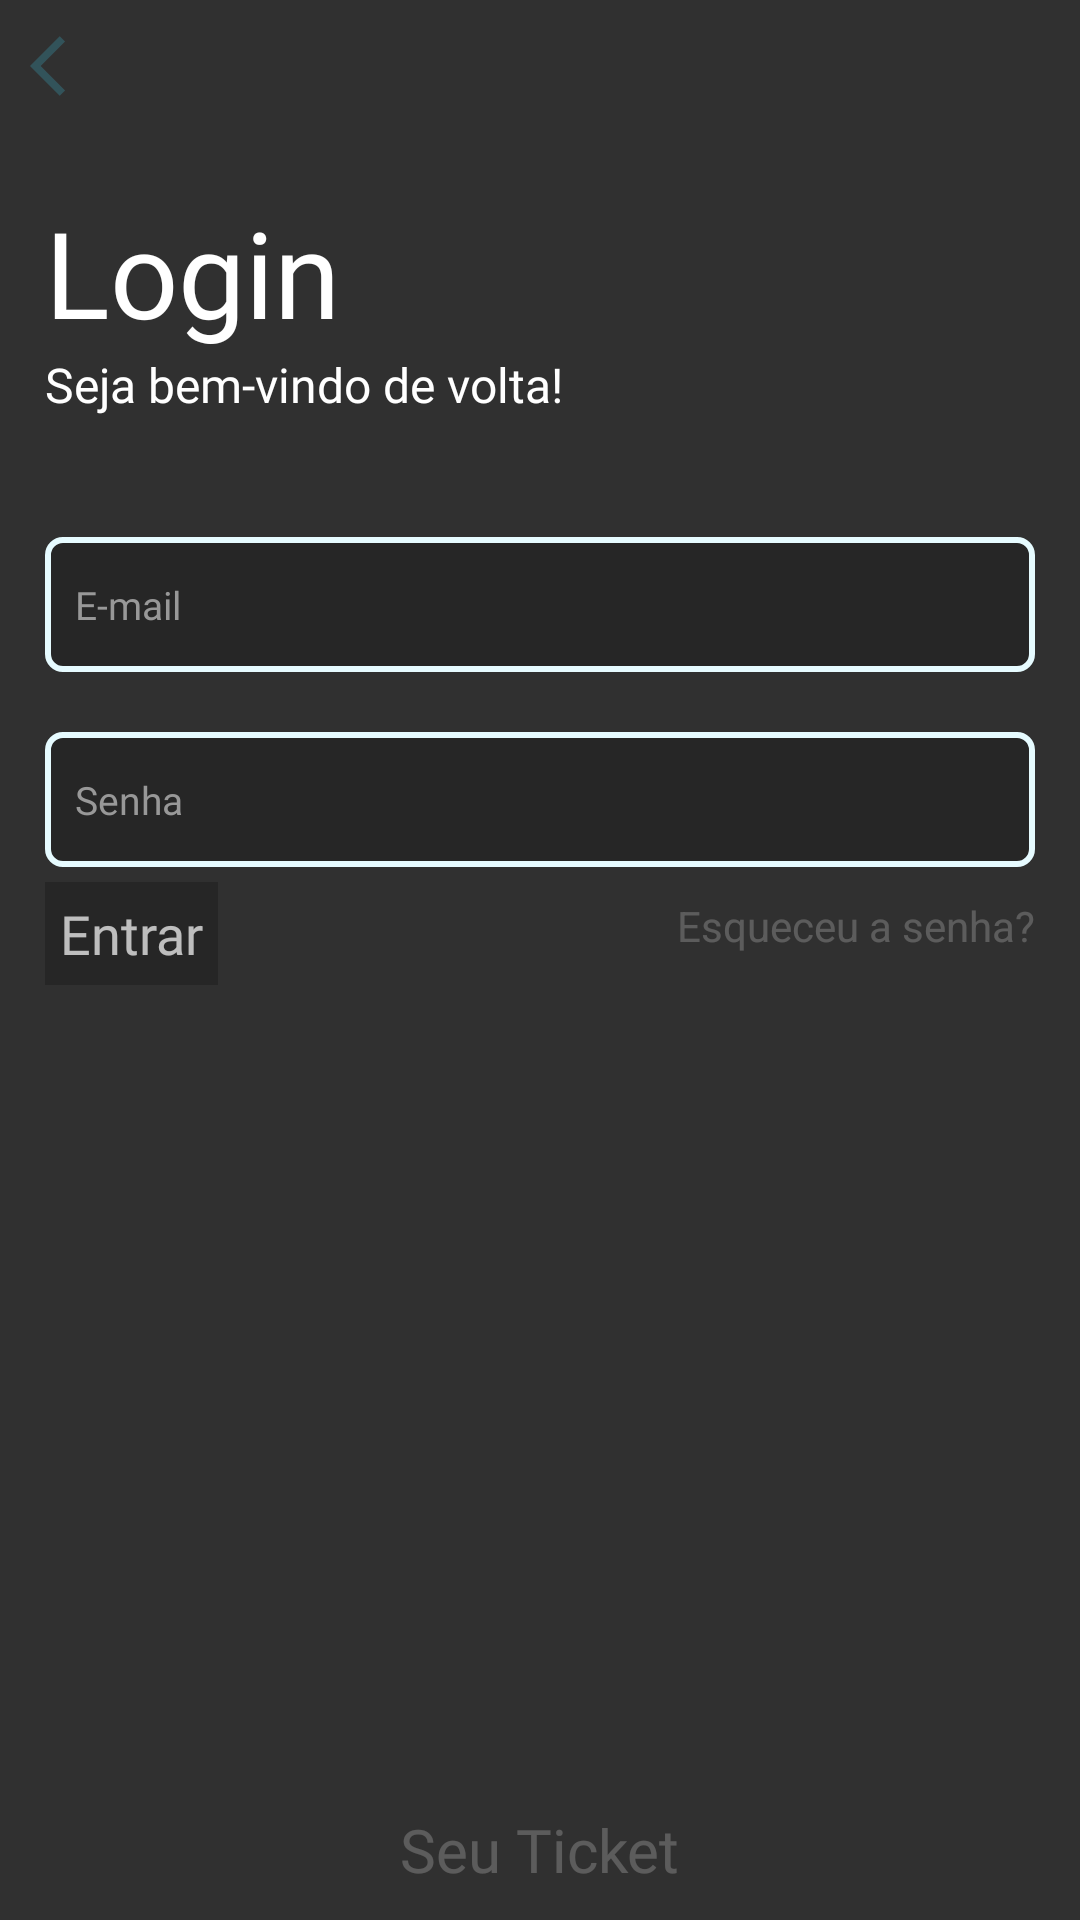

Icons on this 1080 × 1920 Android screen, each with the point to tap as point (x, y):
arrow back: point (48, 66)
